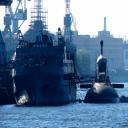submarine: (78, 40, 125, 104)
